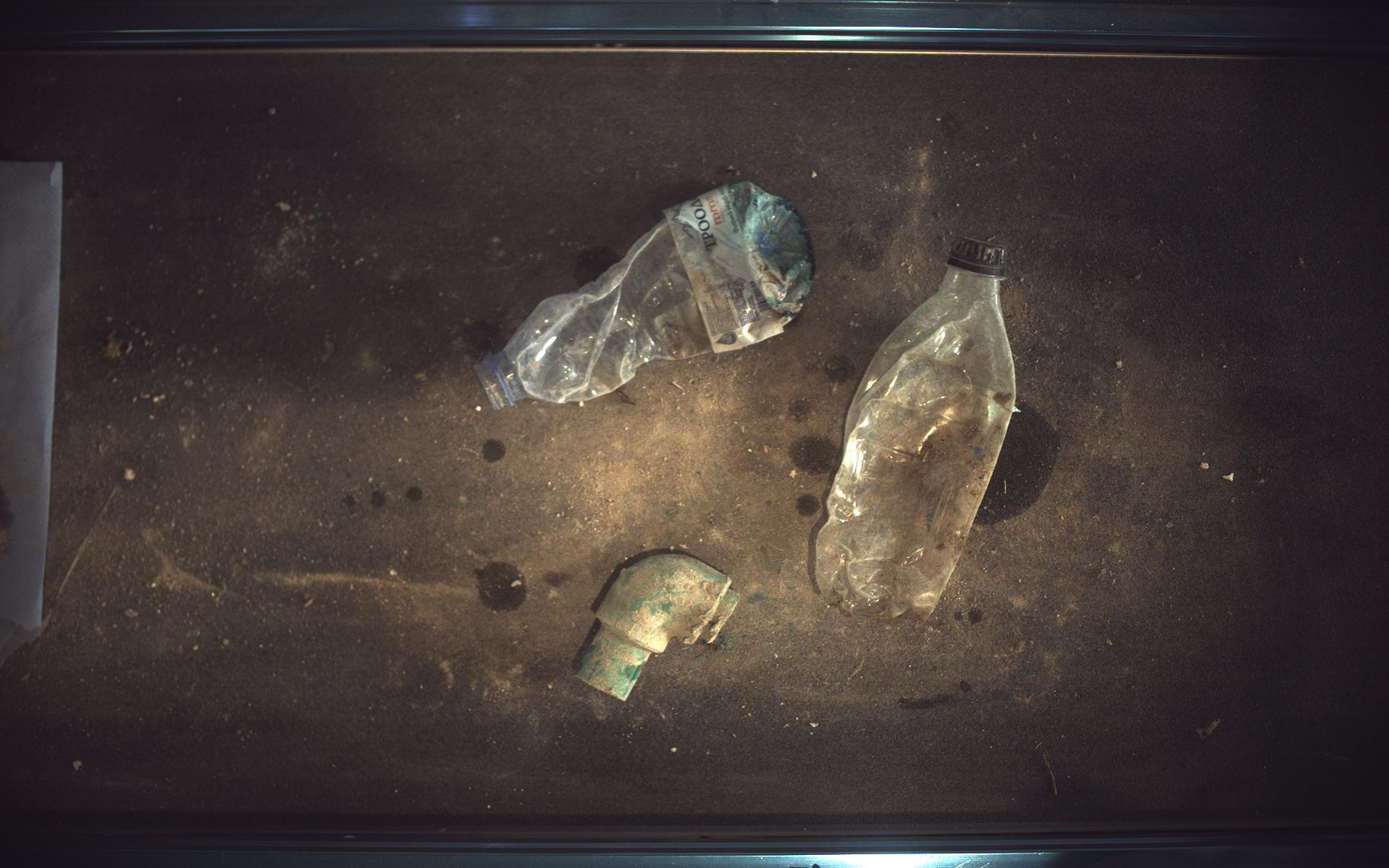general_w: (476, 181, 815, 409), (817, 237, 1018, 621)
pipes: (578, 551, 740, 702)
